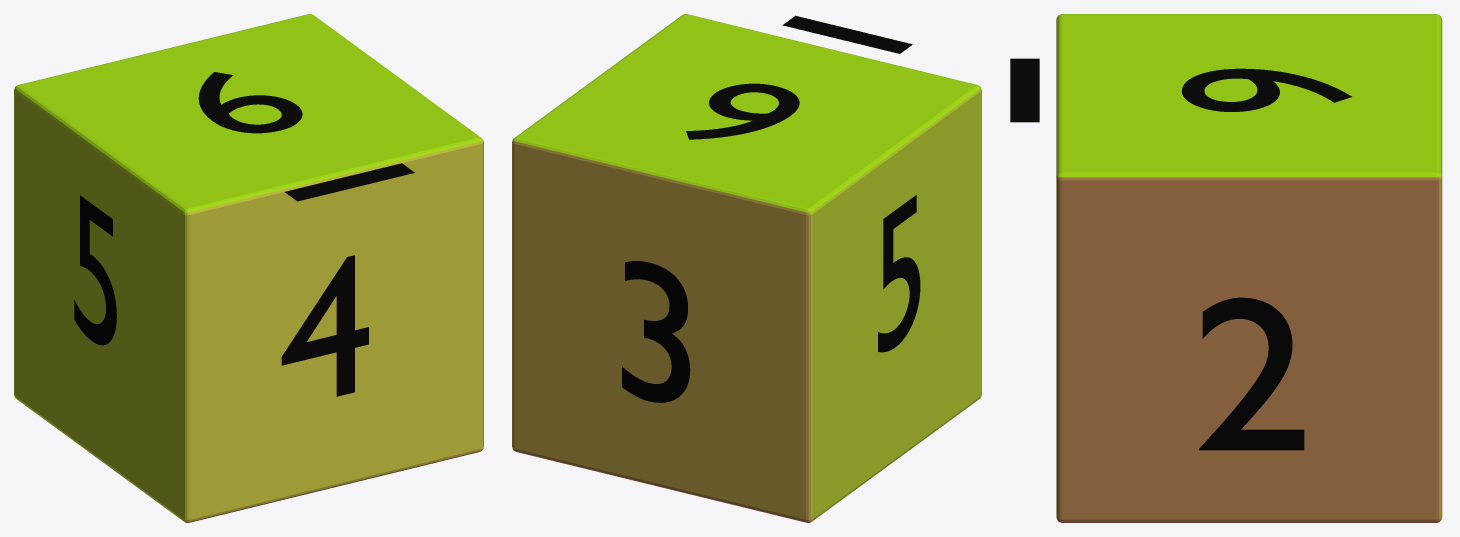
3 renders of one model, left to right at view 1: azimuth 30°, elevation 25°; view 2: azimuth 150°, elevation 25°; view 3: azimuth 270°, elevation 25°, orthographic. The views are drawn at different scales.
Visible parts, largest first — view 1: d6, d6_num; view 2: d6, d6_num; view 3: d6, d6_num.
Boxes of the visible parts, x1,y1,x2,y2 form: d6: (14, 14, 483, 522); d6_num: (74, 72, 414, 396); d6: (512, 14, 981, 522); d6_num: (622, 15, 920, 402); d6: (1056, 14, 1442, 522); d6_num: (1010, 58, 1351, 450).
Bounding box in the file's own units: 1.66 × 1.66 × 1.83.
